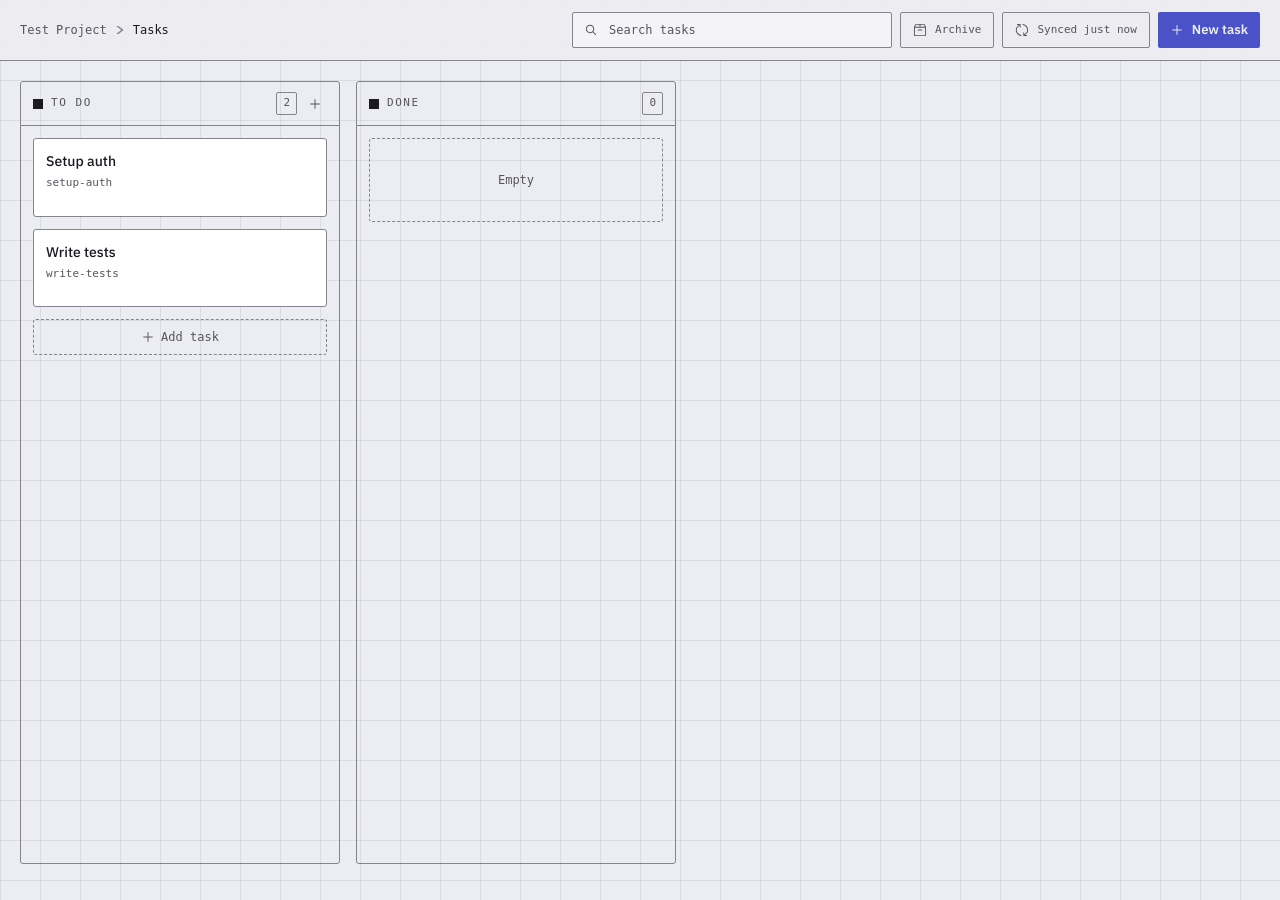
Markdown link handling › opens a linked task in place instead of navigating
The image size is (1280, 900).
Click the heading "Setup auth": (81, 161) [46,152,116,170]
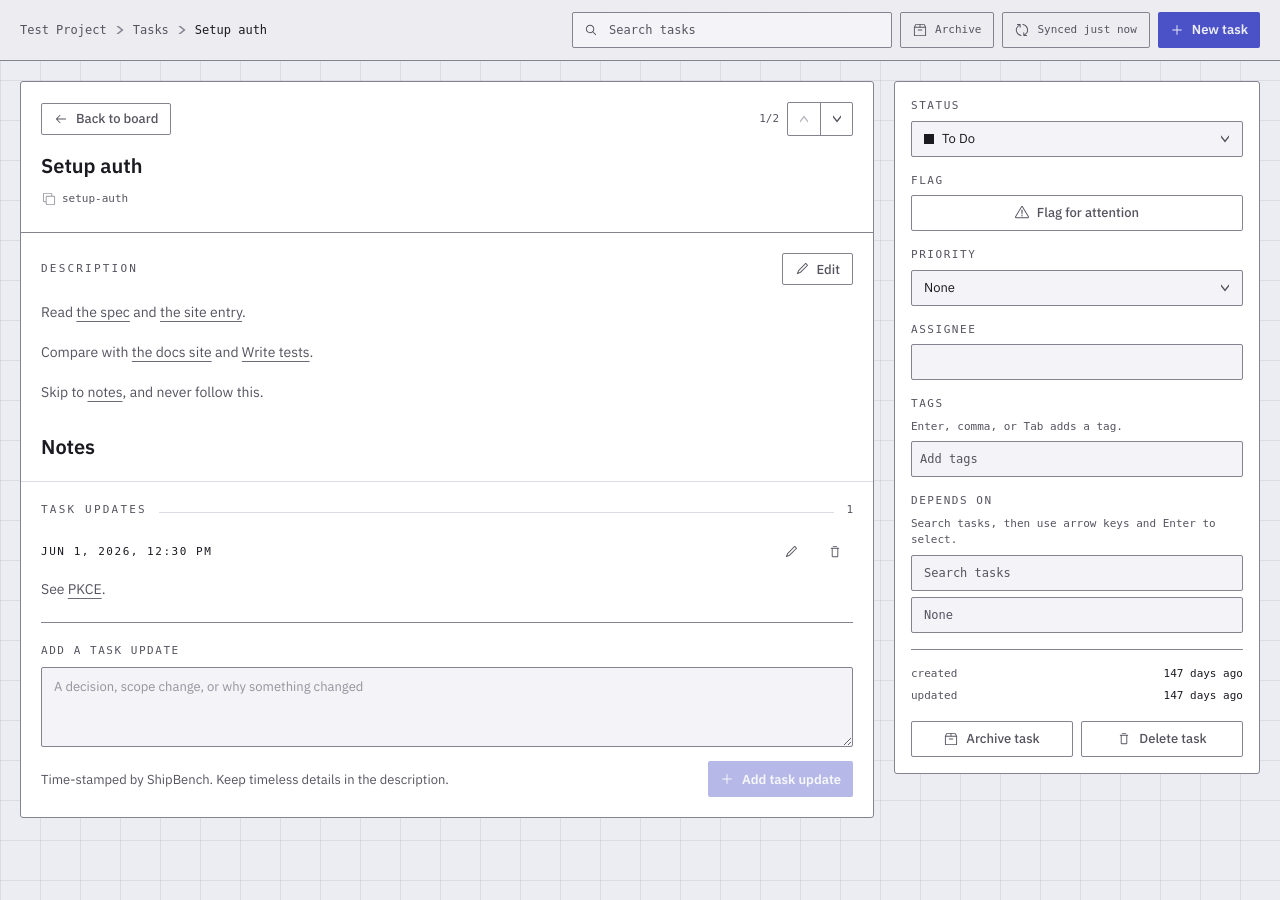
Result: the heading "Notes" is shown at [41,433,95,460]
Click the link "Write tests": (276, 352) [242,343,310,361]
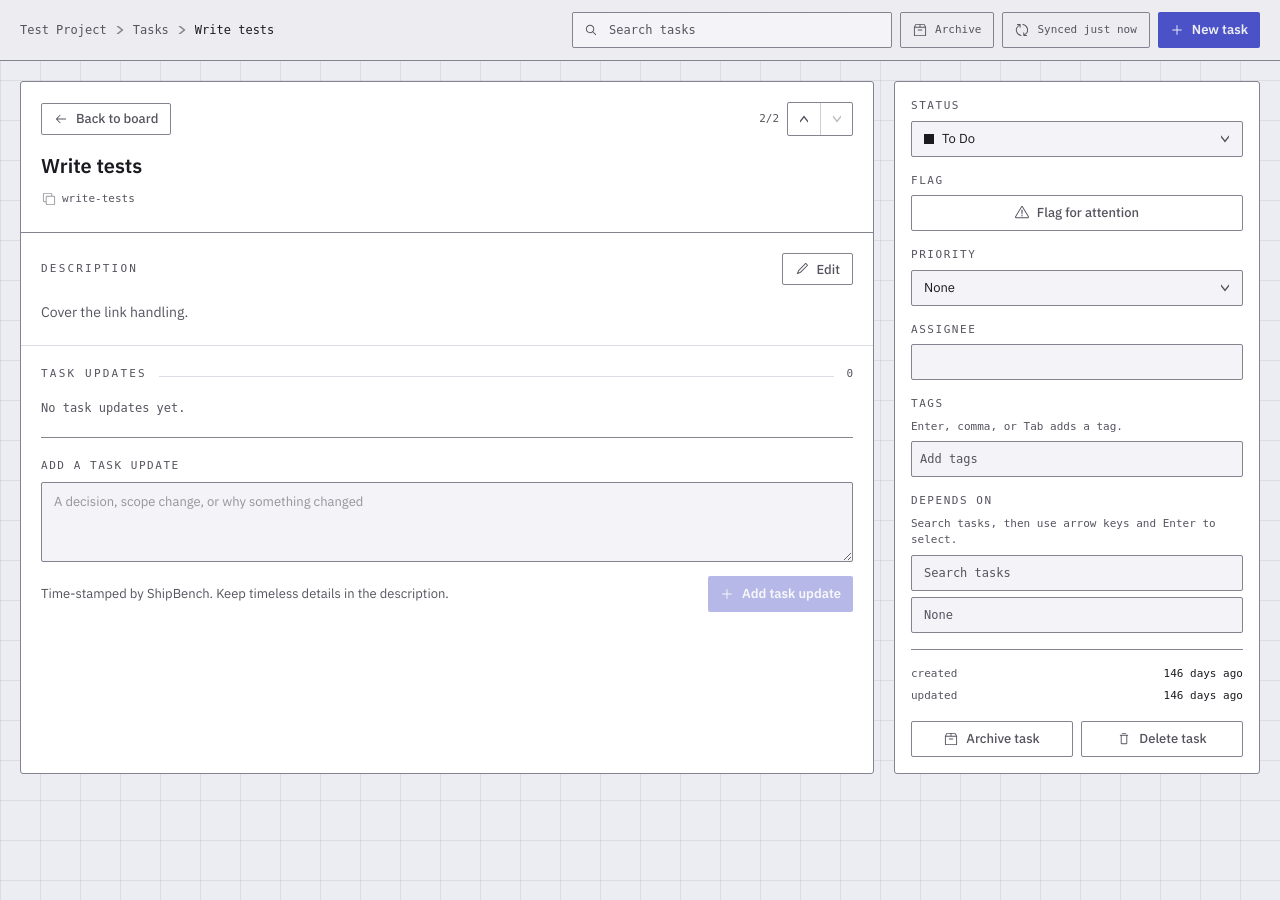
Result: the text "Cover the link handling." is shown at [41,303,188,321]
